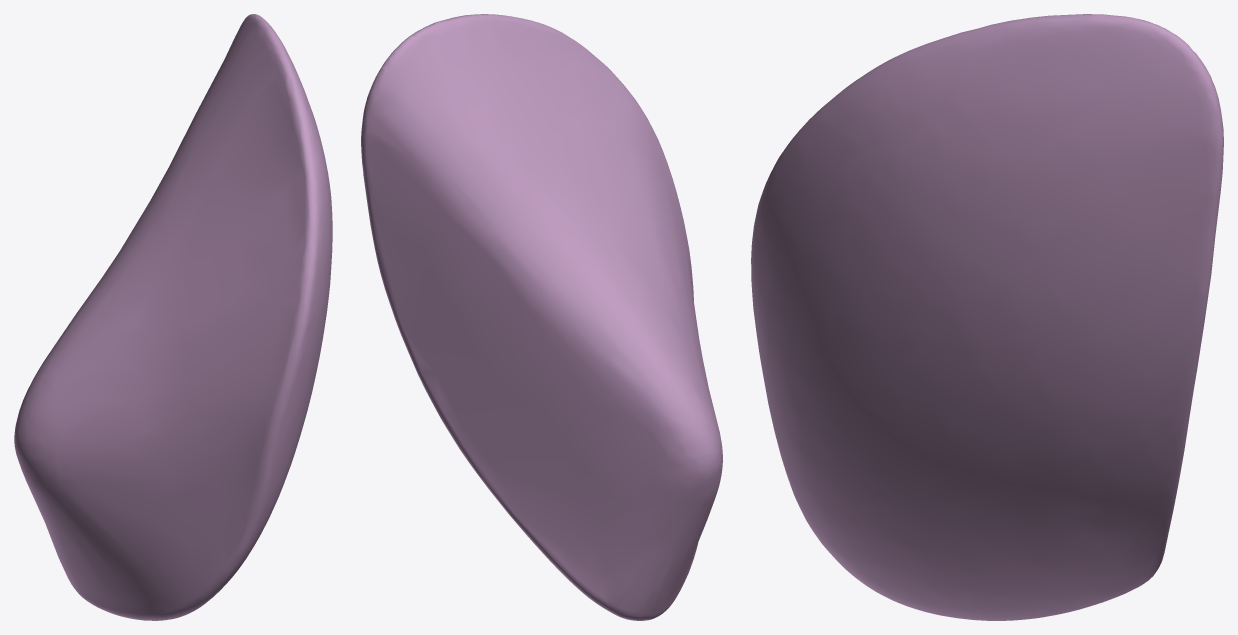
The picture shows the model from 3 angles, left to right: view 1: azimuth 30°, elevation 25°; view 2: azimuth 150°, elevation 25°; view 3: azimuth 270°, elevation 25°; orthographic projection. The views are drawn at different scales.
Visible parts, largest first — view 1: 左侧苍白球; view 2: 左侧苍白球; view 3: 左侧苍白球.
Boxes of the visible parts, <box> form: 左侧苍白球: <box>14,14,332,620</box>; 左侧苍白球: <box>361,14,722,620</box>; 左侧苍白球: <box>751,14,1223,620</box>.
Size of the model in its own units: 0.0239 by 0.0419 by 0.0247.
